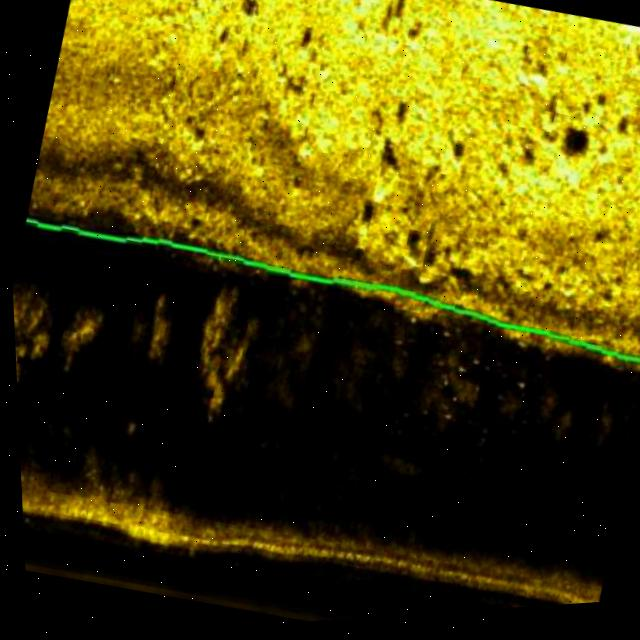bedrock group: (110, 0, 640, 388)
